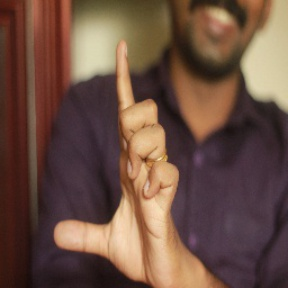L: (51, 42, 185, 282)
